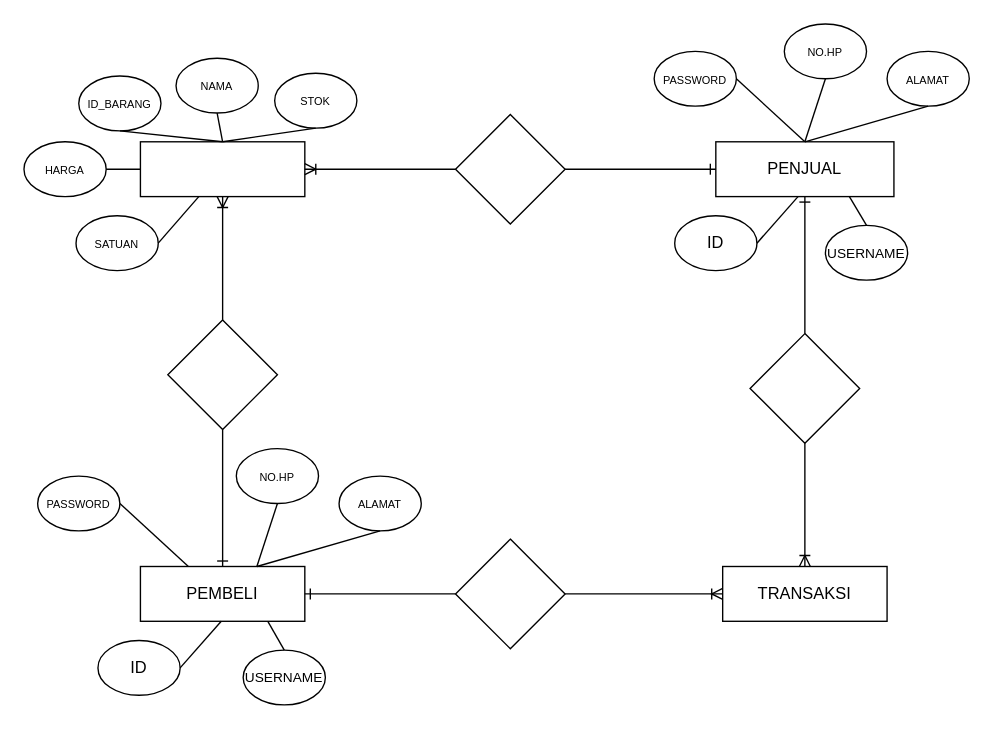
This 993x729 diagram has some shape labels left out. Each missing label, with the centre of its shape:
"BARANG" goes at (x=222, y=168).
"BELI" goes at (x=221, y=374).
"JUAL" goes at (x=509, y=168).
"LAKUKAN" goes at (x=509, y=593).
"TERIMA" goes at (x=804, y=387).
